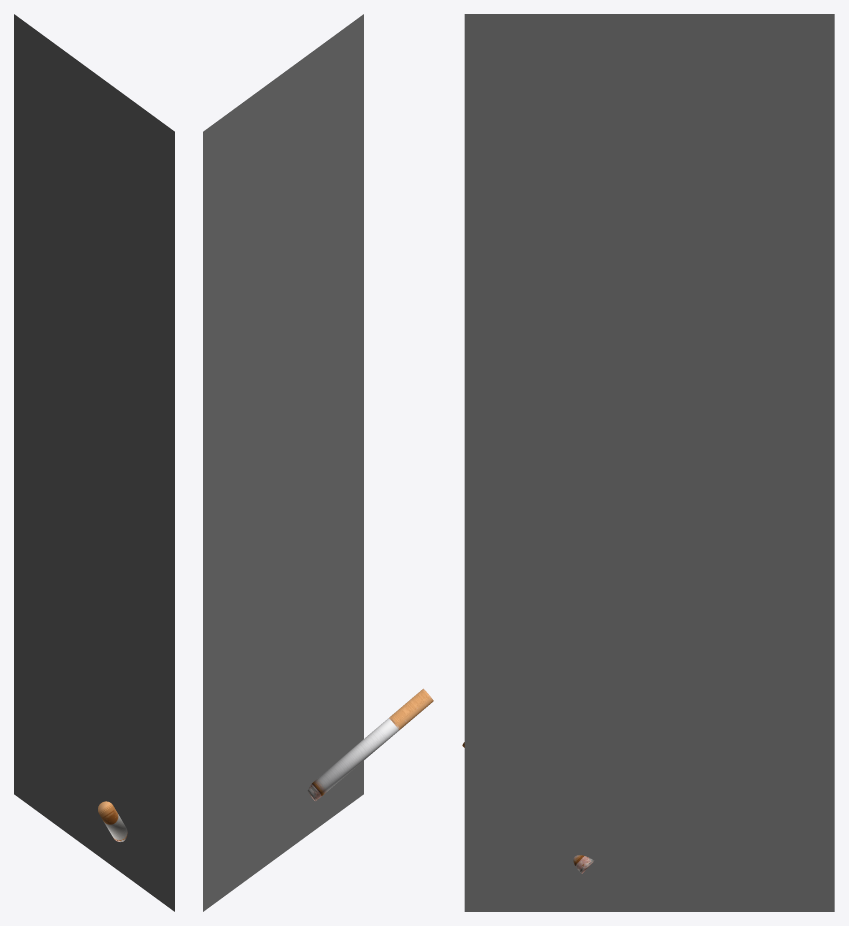
File: Cig.glb
3 views of the same model, side by side, from view 1: azimuth 30°, elevation 25°; view 2: azimuth 150°, elevation 25°; view 3: azimuth 270°, elevation 25° (orthographic). The views are drawn at different scales.
Visible parts, largest first — view 1: Cig; view 2: Cig; view 3: Cig.
Part boxes in pixels (box(x1,y1,x2,y2)): Cig: box(14, 14, 174, 911); Cig: box(203, 14, 433, 911); Cig: box(462, 14, 834, 911).
Size of the model in its own units: 0.3096 by 2.93 by 1.1.
Materials: 2 (2 with a texture image).
